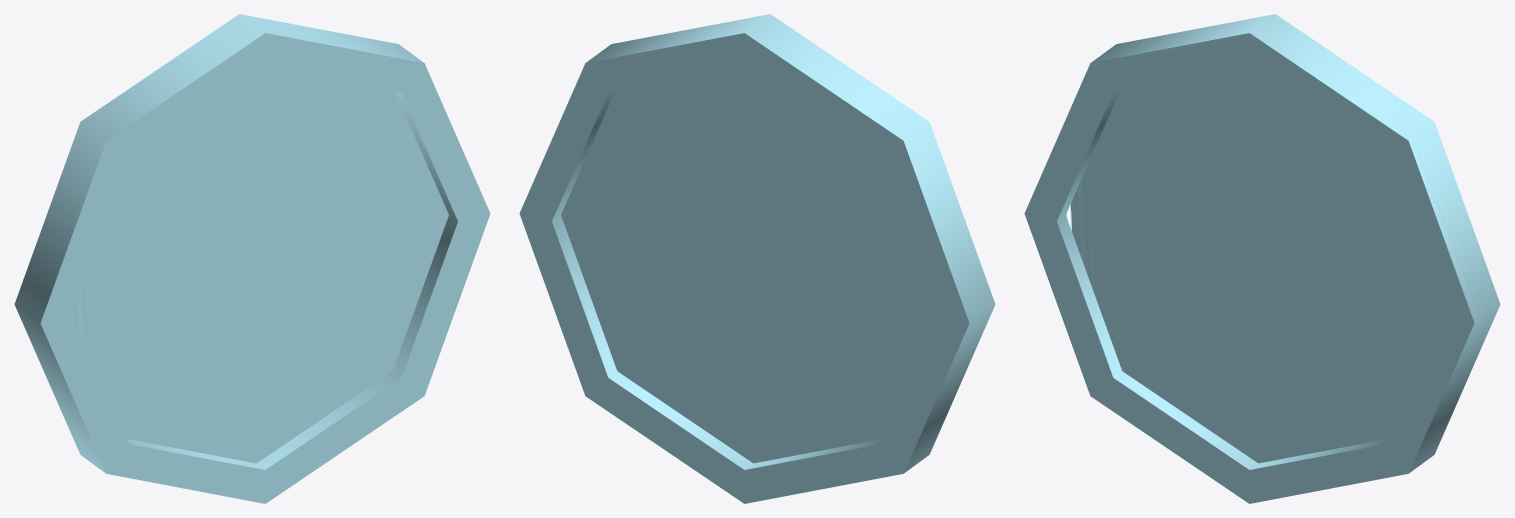
File: ApabankCoin.glb
3 renders of one model, left to right at view 1: azimuth 30°, elevation 25°; view 2: azimuth 150°, elevation 25°; view 3: azimuth 330°, elevation 25°, orthographic.
Visible parts, largest first — view 1: coin_octagono.001; view 2: coin_octagono.001; view 3: coin_octagono.001.
Boxes of the visible parts, box(x1,y1,x2,y2) form: coin_octagono.001: box(14, 14, 490, 503); coin_octagono.001: box(519, 14, 995, 503); coin_octagono.001: box(1024, 14, 1500, 503).
Bounding box in the file's own units: 0.138 × 0.138 × 0.0138.
